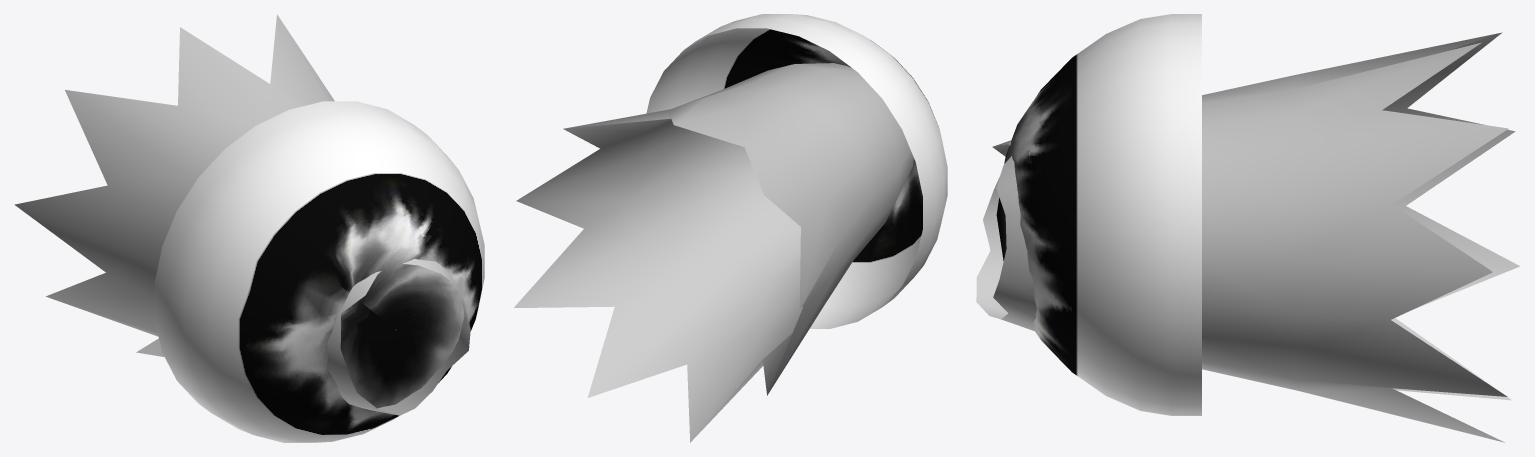
The picture shows the model from 3 angles, left to right: view 1: azimuth 30°, elevation 25°; view 2: azimuth 150°, elevation 25°; view 3: azimuth 270°, elevation 25°; orthographic projection. The views are drawn at different scales.
Parts seen in each view (by area): view 1: fx, ci; view 2: ci, fx; view 3: ci, fx.
Part boxes in pixels (x1,y1,x2,y2): fx: (154,101,484,442); ci: (14,14,470,415); ci: (514,63,913,442); fx: (646,14,947,328); ci: (976,32,1519,442); fx: (996,14,1201,415).
Bounding box in the file's own units: 0.9686 × 0.9843 × 1.25.
